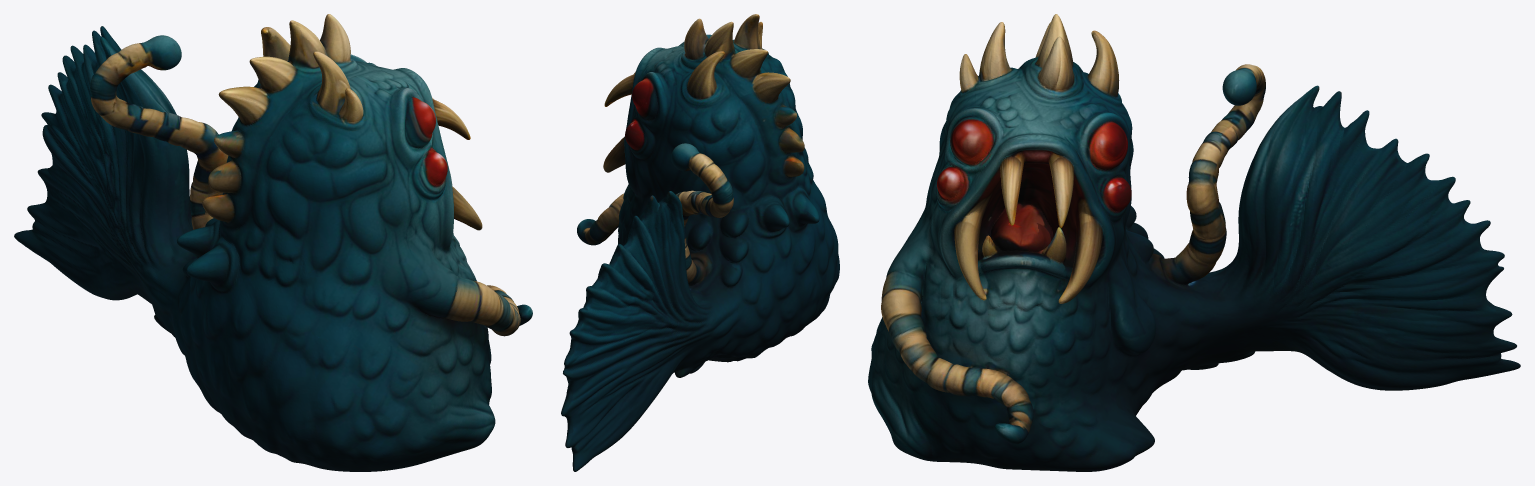
The model's file is TigreMarino.glb.
3 views of the same model, side by side, from view 1: azimuth 30°, elevation 25°; view 2: azimuth 150°, elevation 25°; view 3: azimuth 270°, elevation 25° (orthographic). The views are drawn at different scales.
Parts seen in each view (by area): view 1: tripo_node_7b5cee7f-eb3e-4bd3-91c4-4ac12c874dbe; view 2: tripo_node_7b5cee7f-eb3e-4bd3-91c4-4ac12c874dbe; view 3: tripo_node_7b5cee7f-eb3e-4bd3-91c4-4ac12c874dbe.
Part boxes in pixels (bbox=[...]): tripo_node_7b5cee7f-eb3e-4bd3-91c4-4ac12c874dbe: bbox=[14, 14, 532, 471]; tripo_node_7b5cee7f-eb3e-4bd3-91c4-4ac12c874dbe: bbox=[561, 14, 839, 471]; tripo_node_7b5cee7f-eb3e-4bd3-91c4-4ac12c874dbe: bbox=[868, 14, 1520, 471].
Bounding box in the file's own units: 0.5584 × 0.662 × 1.
1 material, 1 textured.
